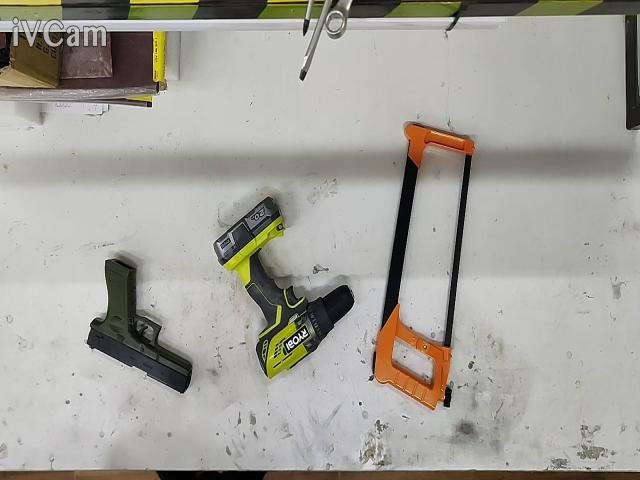Backsaw: (374, 123, 475, 410)
Drill: (214, 197, 354, 378)
Gun: (88, 258, 192, 393)
Wrench: (326, 0, 351, 39)
